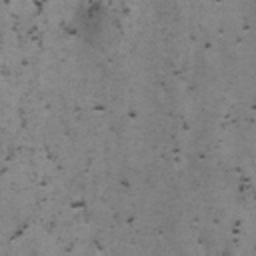Oxide scale of temperature system: (0, 118, 136, 253), (3, 0, 137, 118), (173, 104, 256, 236), (173, 24, 252, 76)
